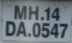character: (14, 4, 27, 20), (4, 20, 16, 36), (15, 21, 27, 37), (31, 21, 41, 37), (58, 22, 68, 38), (28, 5, 38, 20), (49, 22, 59, 37), (41, 22, 50, 37), (51, 7, 60, 20), (44, 6, 50, 20)
